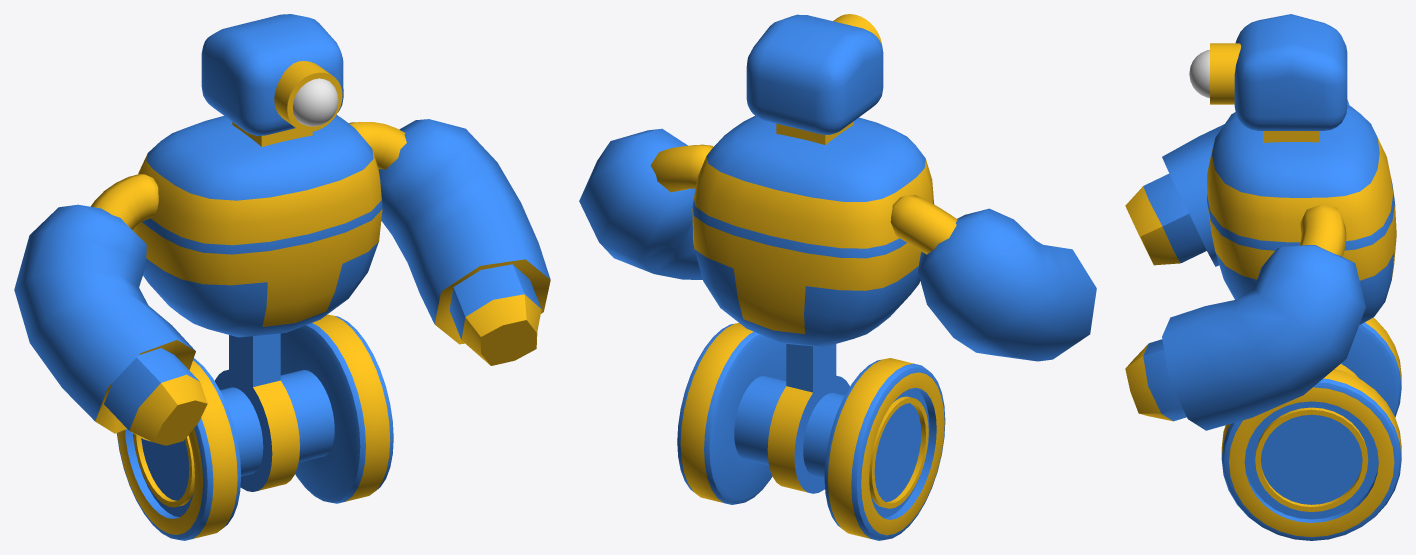
File: PatrollerBot.fbx
3 renders of one model, left to right at view 1: azimuth 30°, elevation 25°; view 2: azimuth 150°, elevation 25°; view 3: azimuth 270°, elevation 25°, orthographic. The views are drawn at different scales.
Parts seen in each view (by area): view 1: Body, Arm.R, Tires, Arm.L, Head, Eye; view 2: Body, Tires, Arm.R, Arm.L, Head; view 3: Arm.L, Tires, Body, Head, Arm.R, Eye.
Part boxes in pixels (<box>): Body: <box>132,114,382,491</box>; Arm.R: <box>14,174,207,445</box>; Tires: <box>116,314,393,540</box>; Arm.L: <box>348,119,550,365</box>; Head: <box>201,14,343,146</box>; Eye: <box>274,61,342,131</box>; Body: <box>692,116,933,493</box>; Tires: <box>677,323,945,540</box>; Arm.R: <box>890,195,1096,361</box>; Arm.L: <box>579,128,713,279</box>; Head: <box>746,14,883,144</box>; Arm.L: <box>1125,204,1365,430</box>; Tires: <box>1221,317,1401,540</box>; Body: <box>1207,105,1396,378</box>; Head: <box>1234,14,1347,142</box>; Arm.R: <box>1125,99,1349,266</box>; Eye: <box>1189,43,1241,104</box>.
Bounding box in the file's own units: 3.41 × 3.37 × 1.78.
